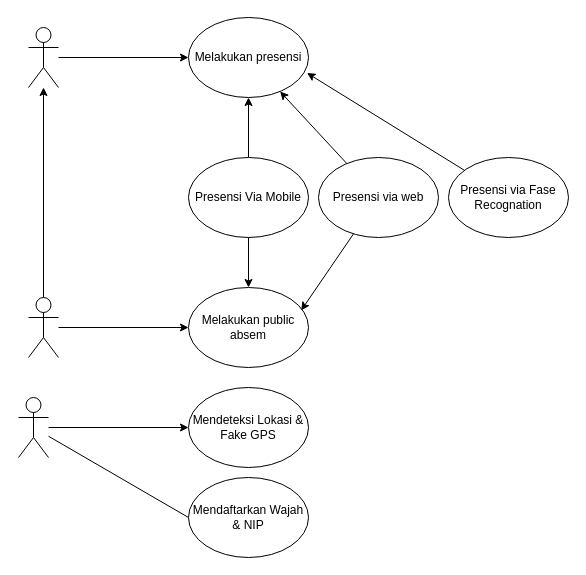
Some shapes in this 586 by 575 pixel diagram are drawn without their labels. Here are the shapes that lost their labels. From the top down, the box of each, then its label:
(28, 26, 58, 88): Karyawan
(28, 296, 58, 358): Sales
(18, 396, 48, 458): HR
